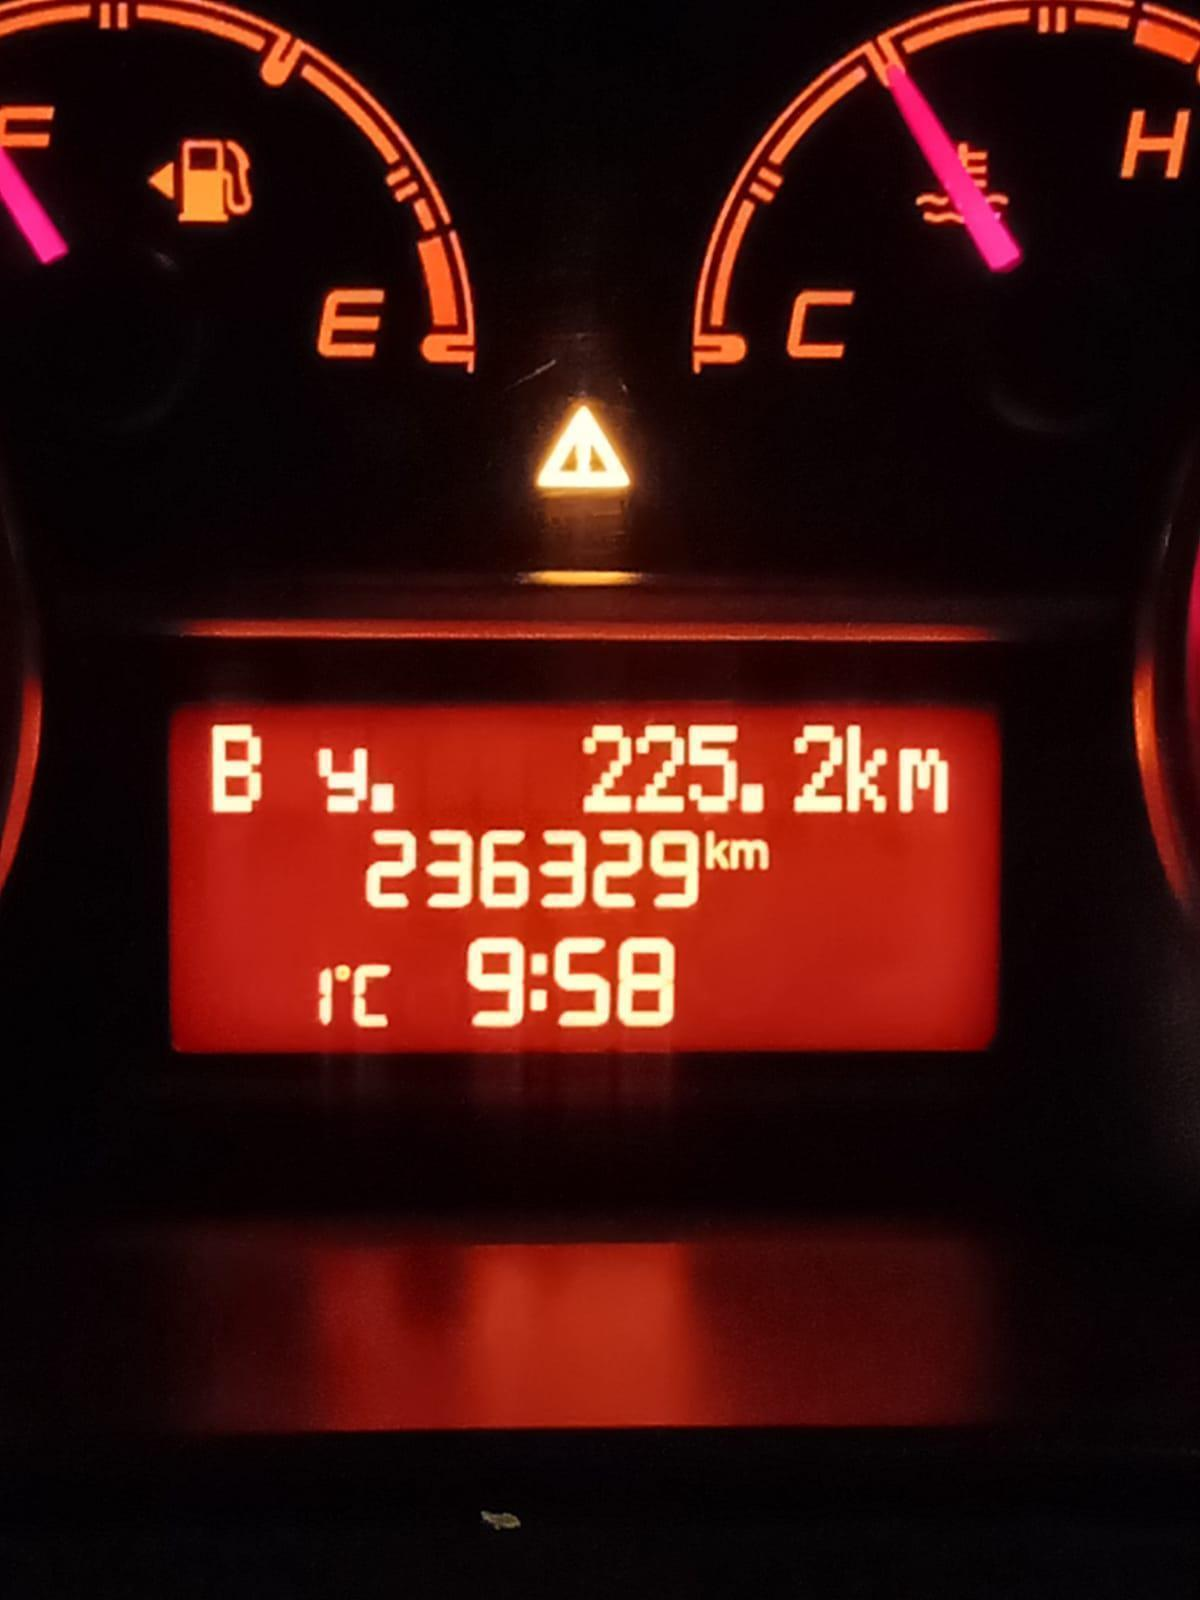,: (368, 780, 397, 815), (737, 781, 766, 814)
1: (313, 966, 334, 1027)
2: (792, 722, 847, 814), (632, 721, 686, 814), (580, 722, 634, 814), (361, 826, 418, 912), (589, 828, 644, 911)
3: (422, 826, 475, 911), (537, 826, 589, 910)
5: (550, 936, 613, 1029), (686, 721, 739, 815)
6: (476, 826, 533, 911)
8: (613, 935, 678, 1029)
9: (463, 934, 526, 1031), (647, 828, 701, 911)
X: (207, 721, 265, 814), (846, 723, 890, 816), (895, 745, 952, 816), (315, 745, 368, 815), (349, 963, 393, 1029), (729, 837, 771, 873), (528, 951, 550, 1012), (701, 829, 730, 872)
odometer: (154, 688, 1015, 1078)
